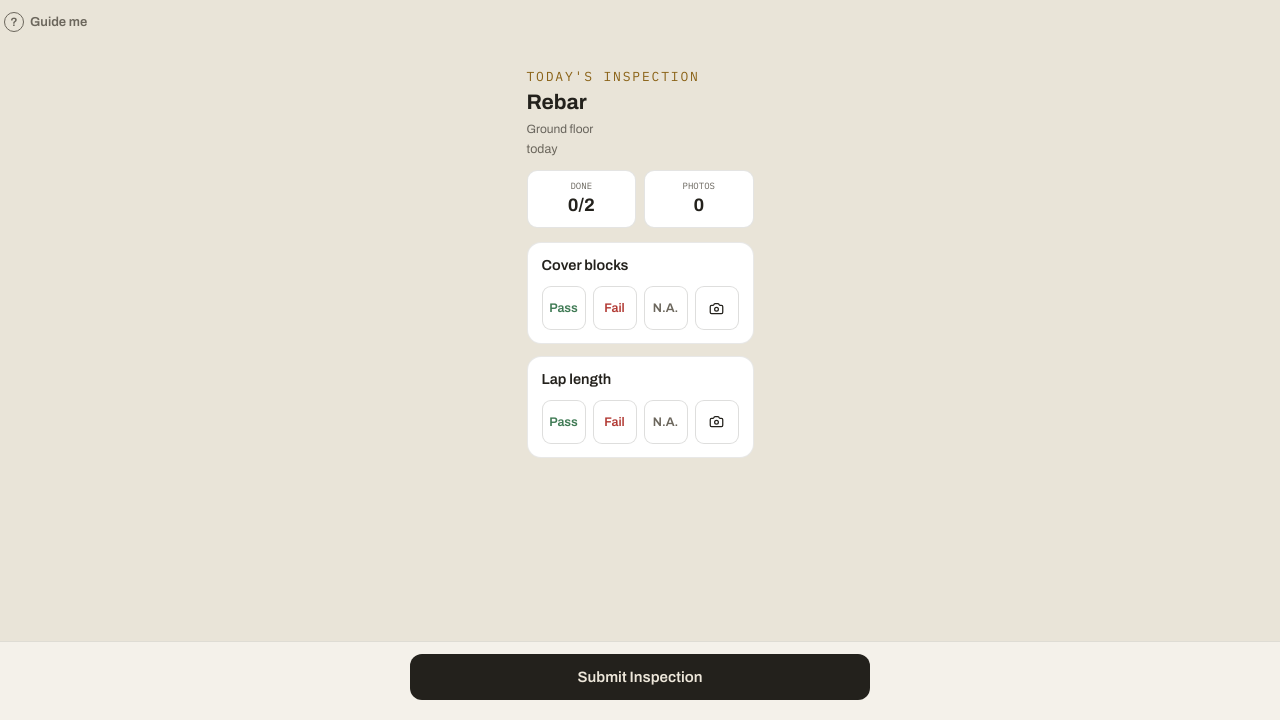
Test: "Guide me" replays the current screen's guide › is hidden while a guide runs, and replays a finished guide from its first step
The image size is (1280, 720).
Click the button with test id "guide-me" at (46, 22), box [0,0,91,44]
Wait 400 ms
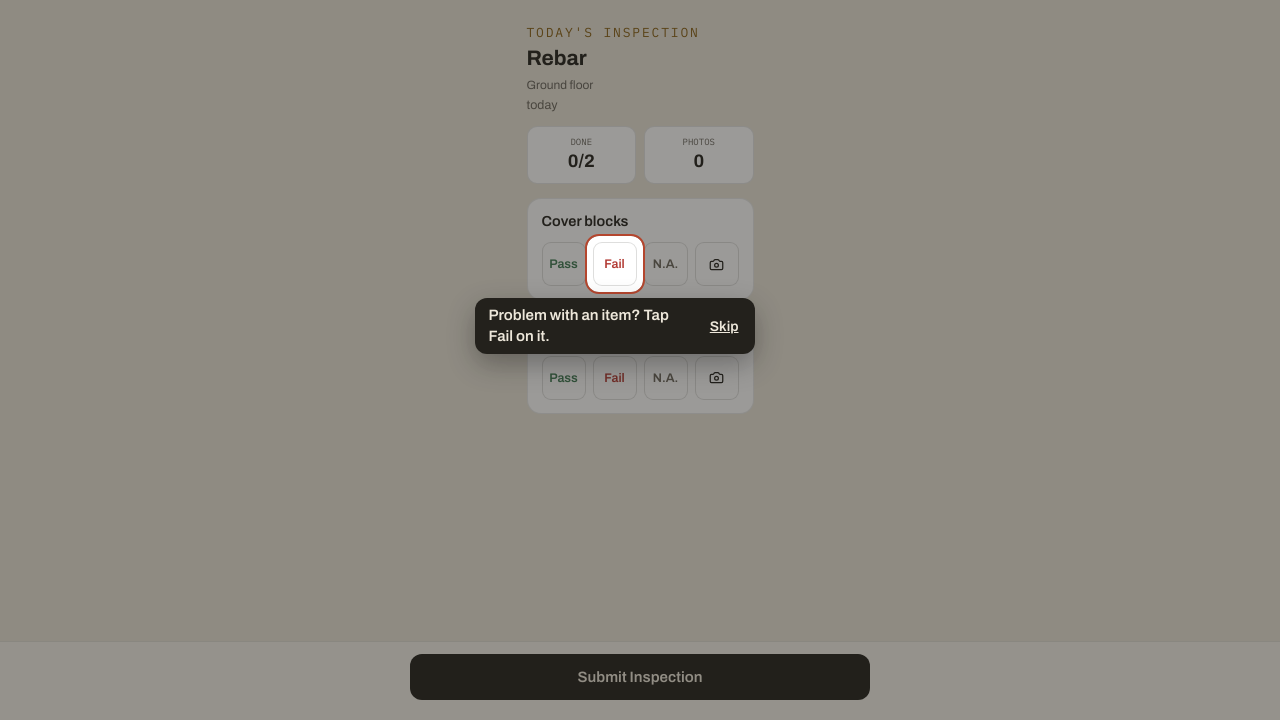
Expected: the button with test id "guide-me" is gone
